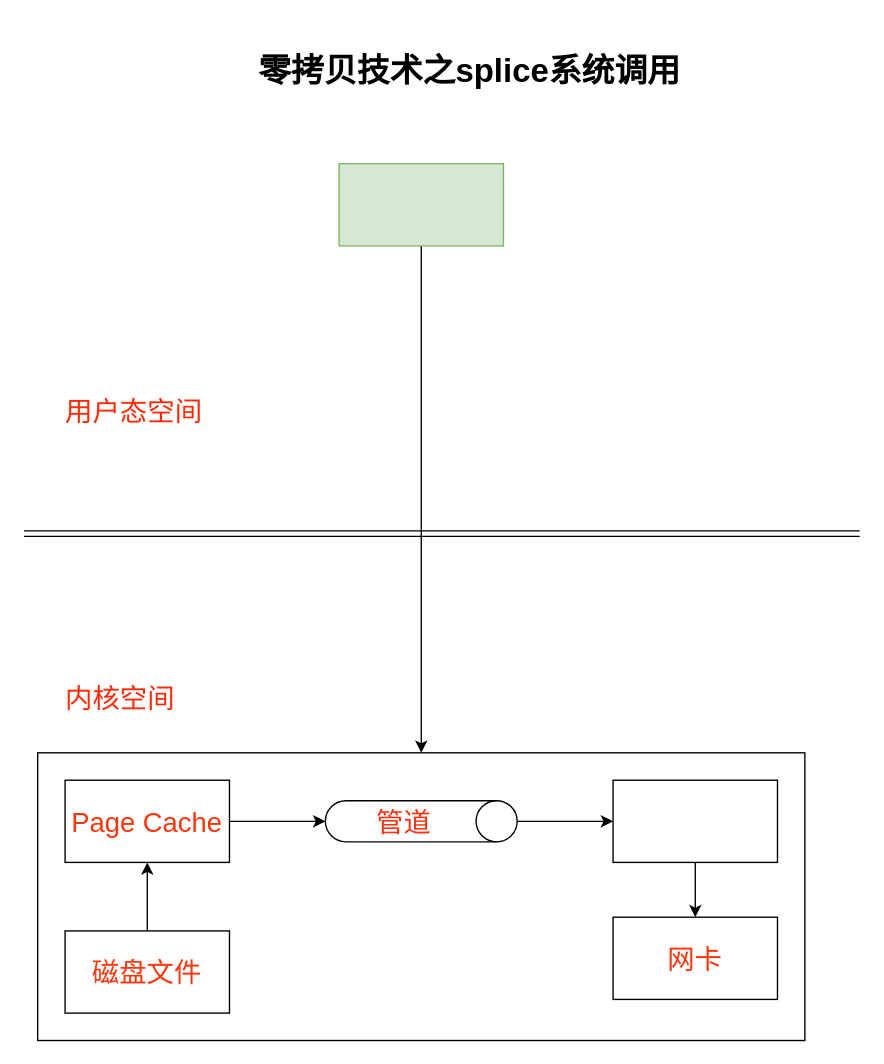
Some shapes in this 884 by 1064 pixel diagram are drawn without their labels. Each missing label, with the centre of its shape:
"Socket Buffer" goes at pixel 694 820.
"splice()" goes at pixel 420 204.
